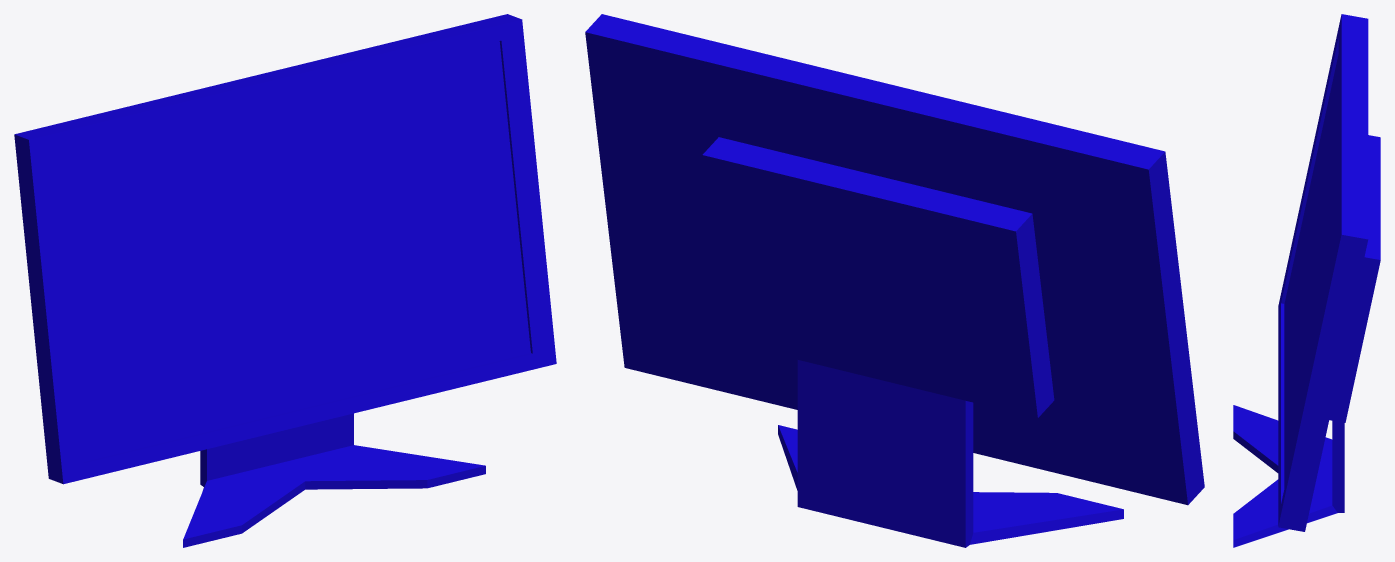
Rendered from pcmonitor.fbx.
3 renders of one model, left to right at view 1: azimuth 30°, elevation 25°; view 2: azimuth 150°, elevation 25°; view 3: azimuth 270°, elevation 25°, orthographic. The views are drawn at different scales.
Parts seen in each view (by area): view 1: 立方体, 立方体.002; view 2: 立方体, 立方体.001, 立方体.002; view 3: 立方体, 立方体.002, 立方体.001.
Boxes of the visible parts, left/top/right/bottom form: 立方体: left=14, top=14, right=556, bottom=484; 立方体.002: left=183, top=413, right=485, bottom=547; 立方体: left=585, top=14, right=1204, bottom=505; 立方体.001: left=702, top=137, right=1054, bottom=418; 立方体.002: left=778, top=360, right=1123, bottom=547; 立方体: left=1278, top=14, right=1368, bottom=531; 立方体.002: left=1233, top=405, right=1344, bottom=547; 立方体.001: left=1329, top=135, right=1380, bottom=422.
Bounding box in the file's own units: 501 × 377 × 142.
